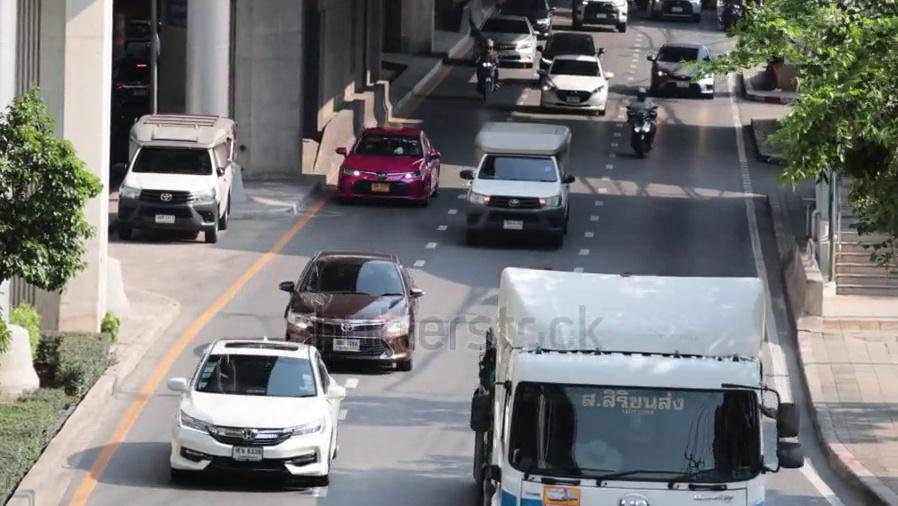rider: (624, 84, 659, 158), (474, 38, 500, 100)
with_helmate: (634, 88, 647, 103), (484, 40, 494, 52)
